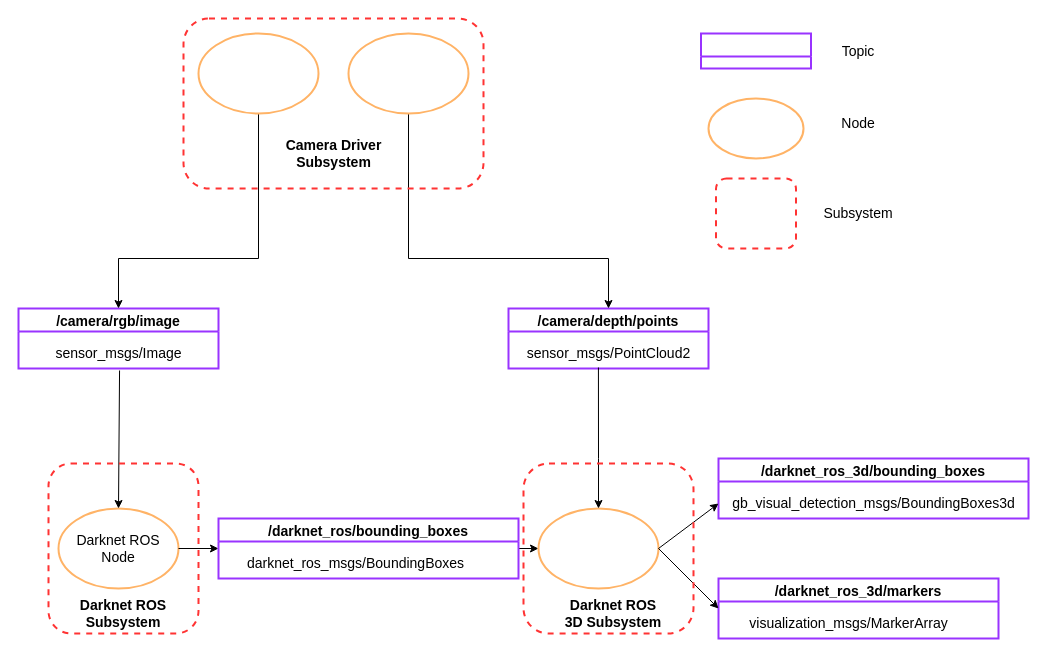
This 1046x656 diagram has some shape labels left out. Here are the shapes that lost their labels. From the top down, the centre of each, then its label:
At point (258, 73): "RGB Node".
At point (408, 73): "Depth Node".
At point (598, 548): "Darknet ROS 3D Node".
